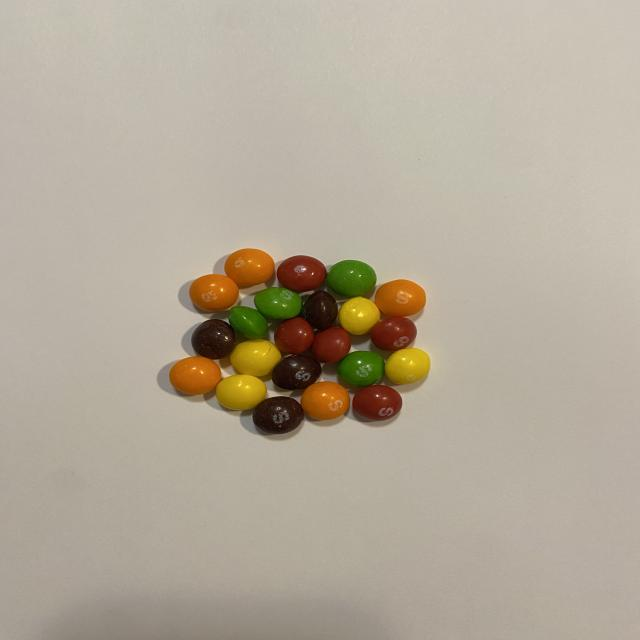smartie: (168, 357, 221, 395), (229, 339, 281, 377), (375, 279, 426, 317), (252, 397, 304, 434), (224, 248, 274, 286), (300, 382, 350, 420), (326, 260, 377, 297), (276, 255, 327, 292), (188, 274, 238, 311), (190, 319, 235, 360), (215, 375, 266, 411), (352, 385, 402, 421), (337, 351, 385, 388), (271, 355, 321, 390), (385, 348, 430, 385), (299, 290, 338, 331), (338, 297, 380, 335), (371, 317, 417, 351), (254, 287, 302, 319), (274, 317, 314, 355), (311, 327, 351, 363), (228, 306, 268, 339)
